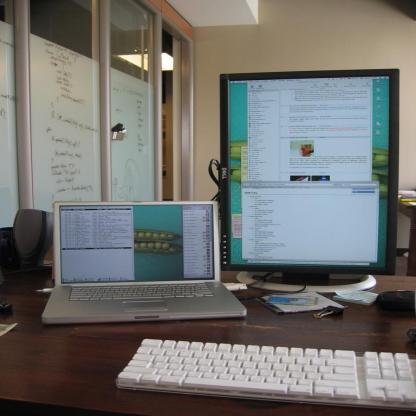board: (36, 195, 251, 328)
